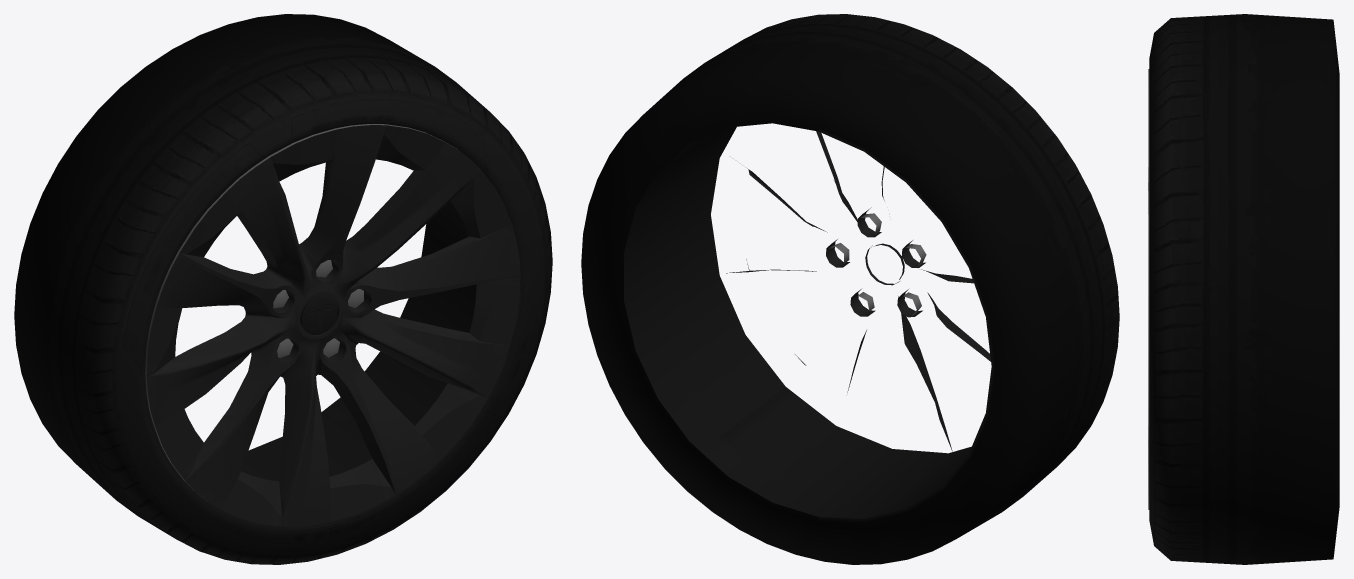
Rendered from Wheel_Slipstream_Sonic_Carbon.glb.
3 views of the same model, side by side, from view 1: azimuth 30°, elevation 25°; view 2: azimuth 150°, elevation 25°; view 3: azimuth 270°, elevation 25° (orthographic). The views are drawn at different scales.
Visible parts, largest first — view 1: Wheel_Slipstream; view 2: Wheel_Slipstream; view 3: Wheel_Slipstream.
Part boxes in pixels (box(x1,y1,x2,y2)): Wheel_Slipstream: box(14, 14, 552, 564); Wheel_Slipstream: box(581, 14, 1119, 564); Wheel_Slipstream: box(1148, 14, 1339, 564).
Bounding box in the file's own units: 0.7408 × 0.7394 × 0.257.
Materials: 2 (2 with a texture image).
